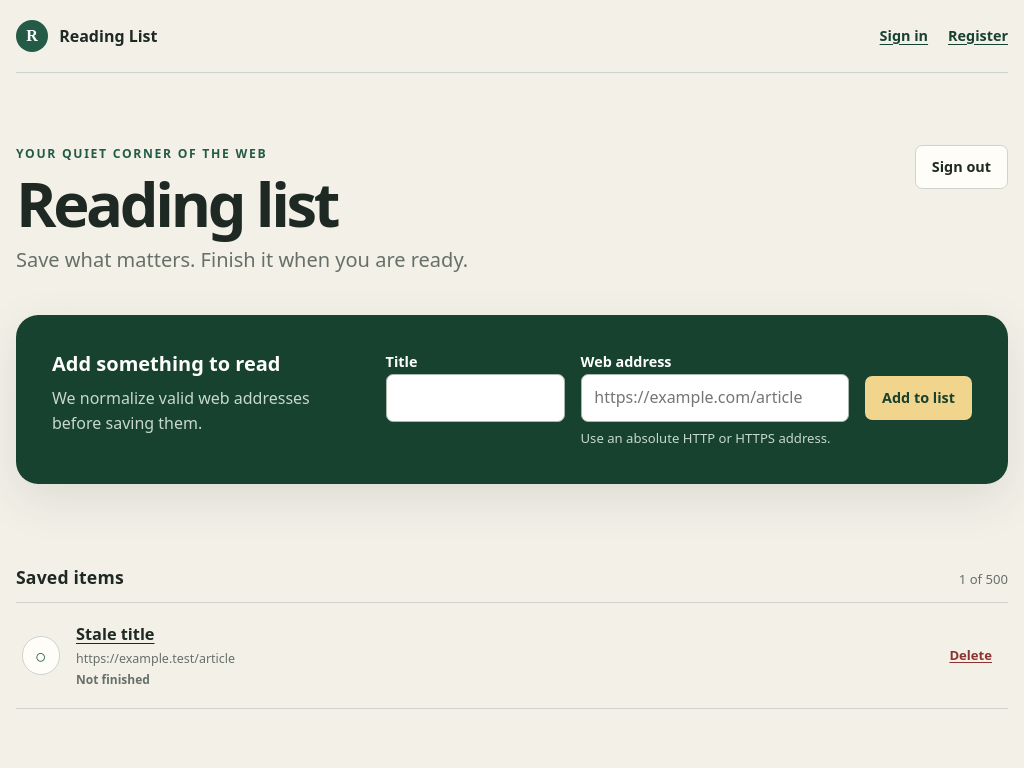
Test: reading-list mutations › refreshes without overwriting after a 428 delete conflict
This screenshot has width=1024, height=768.
Check: the link "Stale title" is shown, box top-left (76, 622), bottom-right (317, 644)
Step 1. Click the button with aria-label "Delete Stale title" → [971, 656], box top-left (939, 636), bottom-right (1002, 675)
(page scrolled)
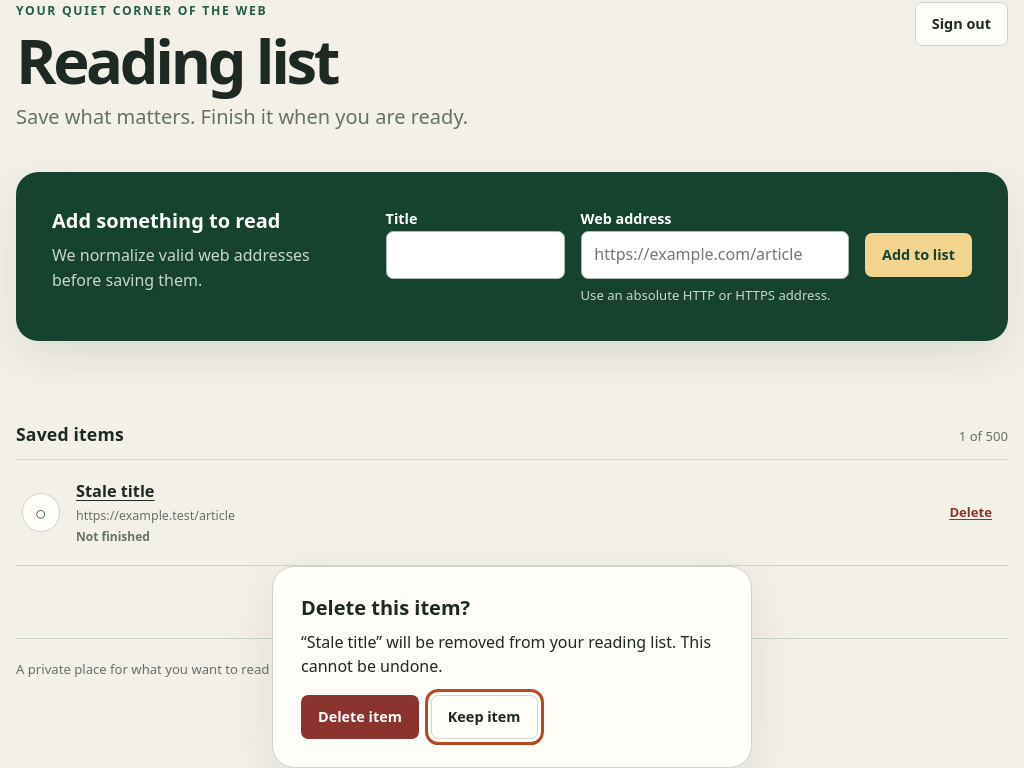
Step 2. Click the button "Delete item" → [360, 717], box top-left (301, 695), bottom-right (419, 739)
(page scrolled)
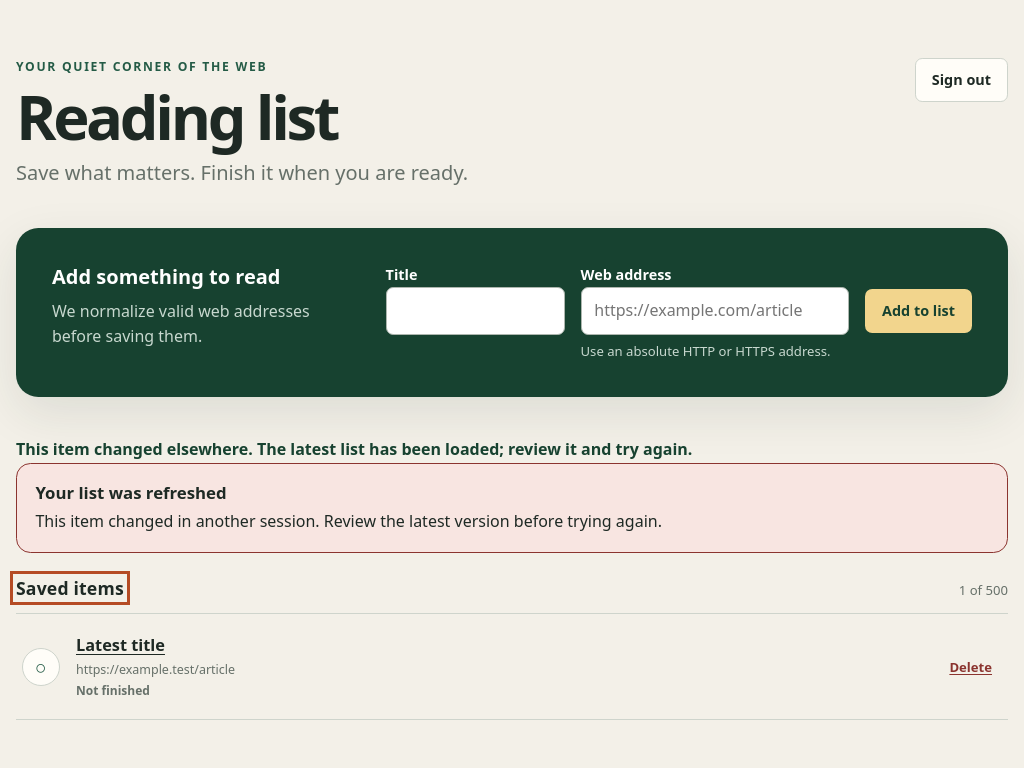
Check: the heading "Your list was refreshed" is shown, box top-left (35, 481), bottom-right (227, 504)
Check: the text "review the latest version before trying again" is shown, box top-left (35, 510), bottom-right (662, 532)
Check: the link "Latest title" is shown, box top-left (76, 633), bottom-right (328, 656)
